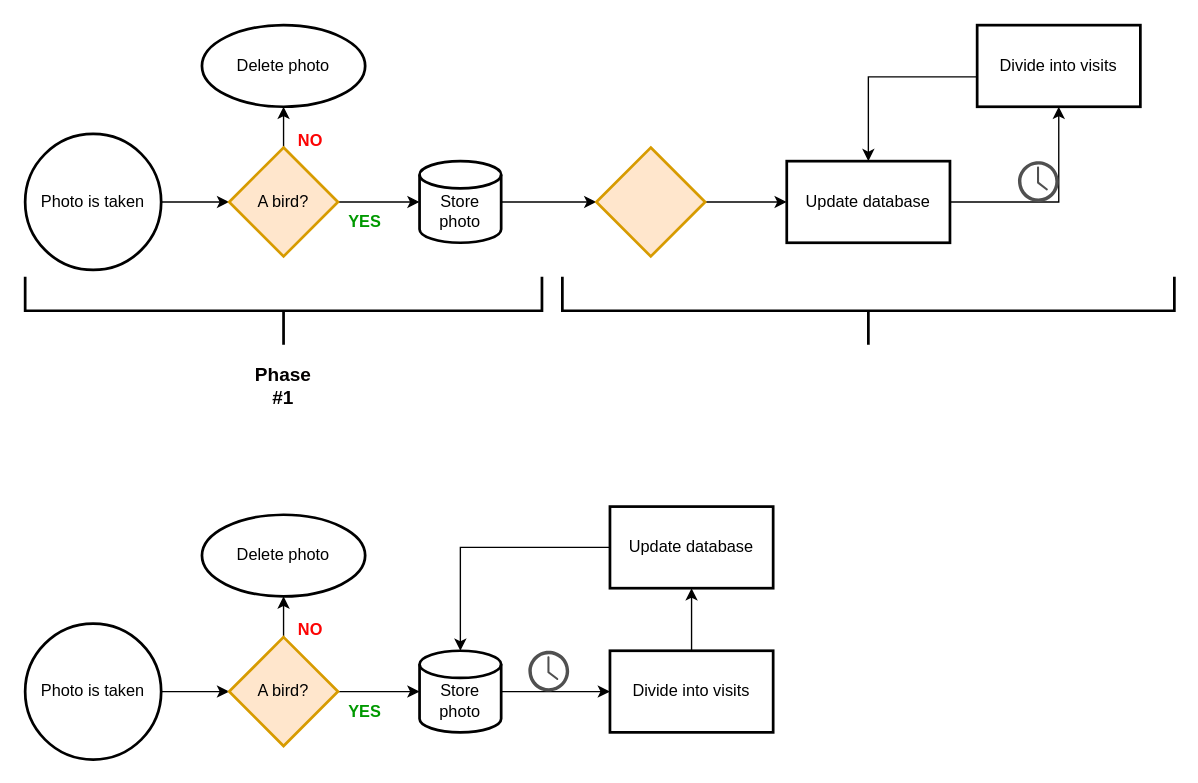
Image size: 1198x783. Some labels were removed from this diagram. Here are the shapes that lost their labels. From the top down, the box of each, then its label:
(594, 146, 706, 257): What species?
(560, 275, 1175, 345): Phase #2
